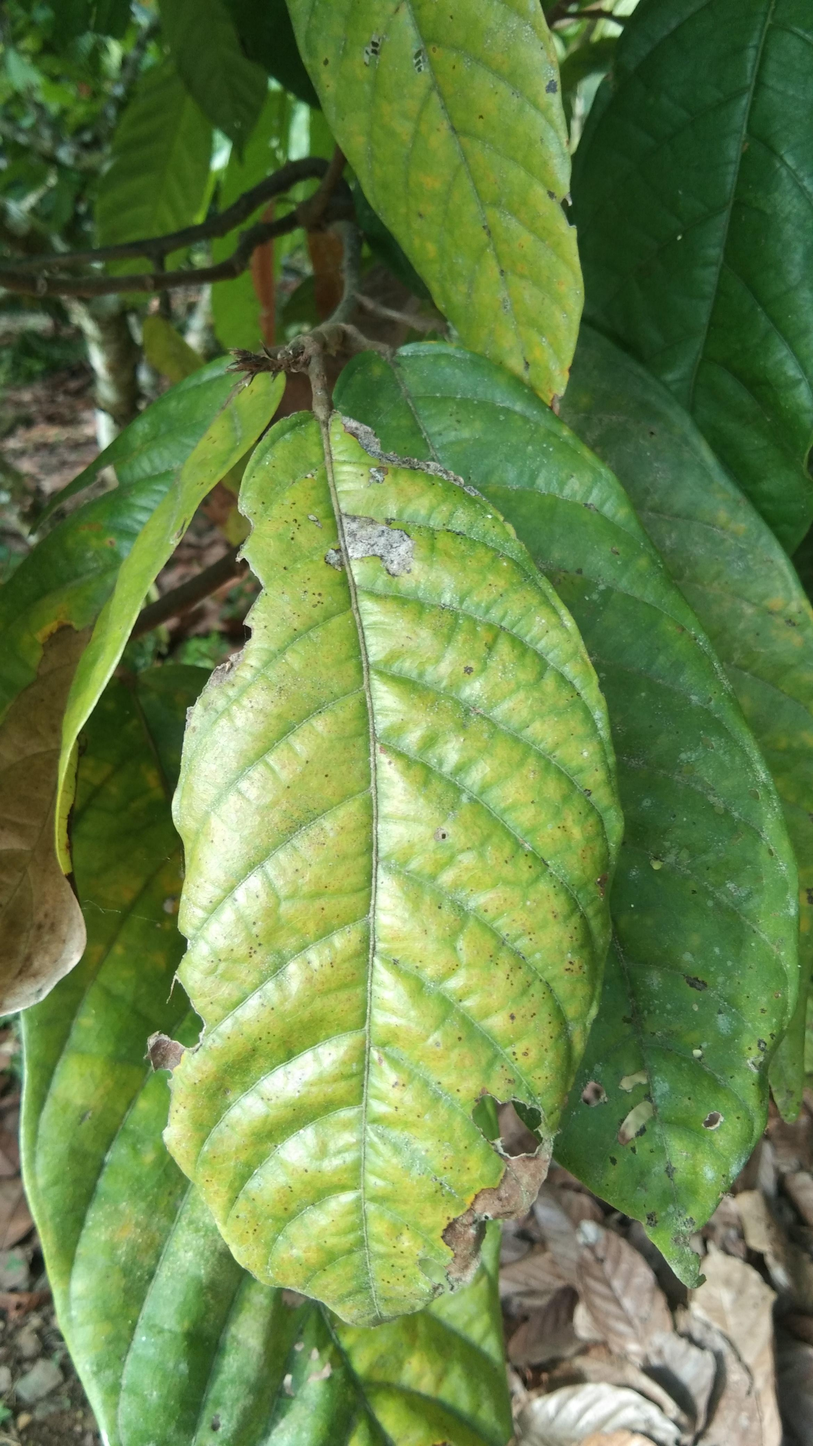deficiencia_potasio: (147, 384, 629, 1355)
